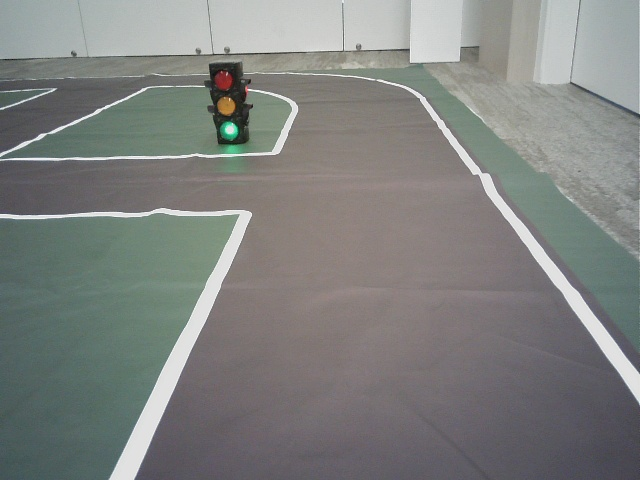green: (210, 65, 240, 141)
